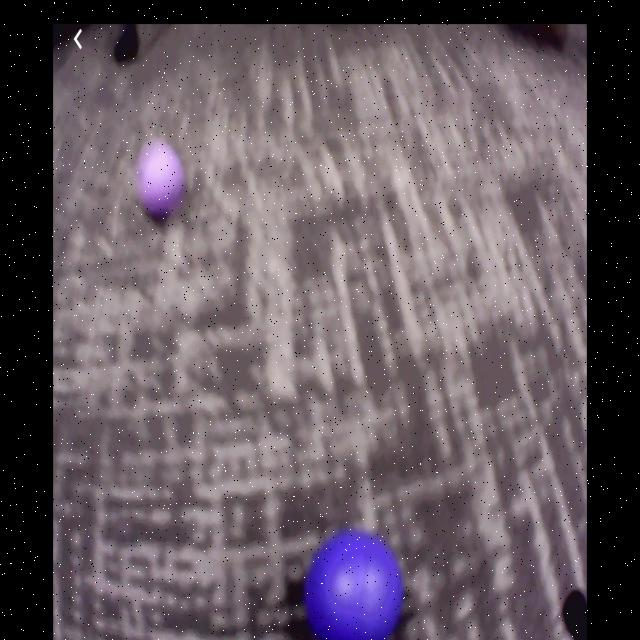ball: (307, 534, 403, 640), (140, 144, 184, 221)
